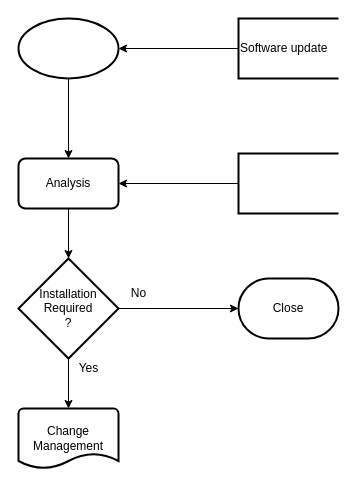
Some shapes in this 356 by 486 pixel diagram are drawn without their labels. The shapes that lost their labels are listed below. From the top down, each one's centre as x and y in pixels, then its label:
At pixel 68 48: "Patch".
At pixel 288 183: "Asset Inventory".
